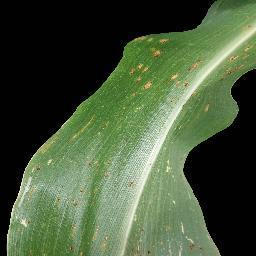Corn_Common_Rust: (6, 123, 60, 255), (130, 26, 201, 89), (127, 221, 223, 256), (218, 44, 256, 83), (180, 89, 210, 114), (70, 115, 95, 144), (80, 159, 113, 179), (93, 226, 114, 253), (68, 186, 88, 208), (164, 158, 179, 175), (66, 244, 85, 256), (126, 177, 137, 192), (169, 194, 182, 206), (246, 22, 256, 35), (69, 222, 78, 234)
